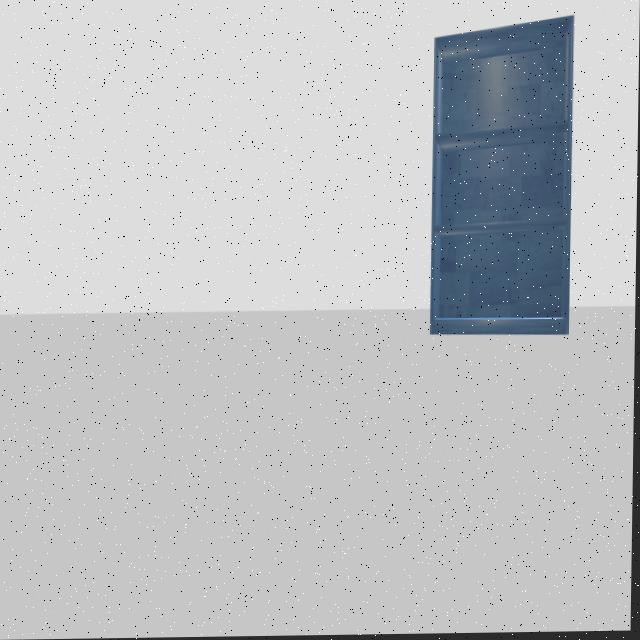shelf: (416, 8, 584, 360)
